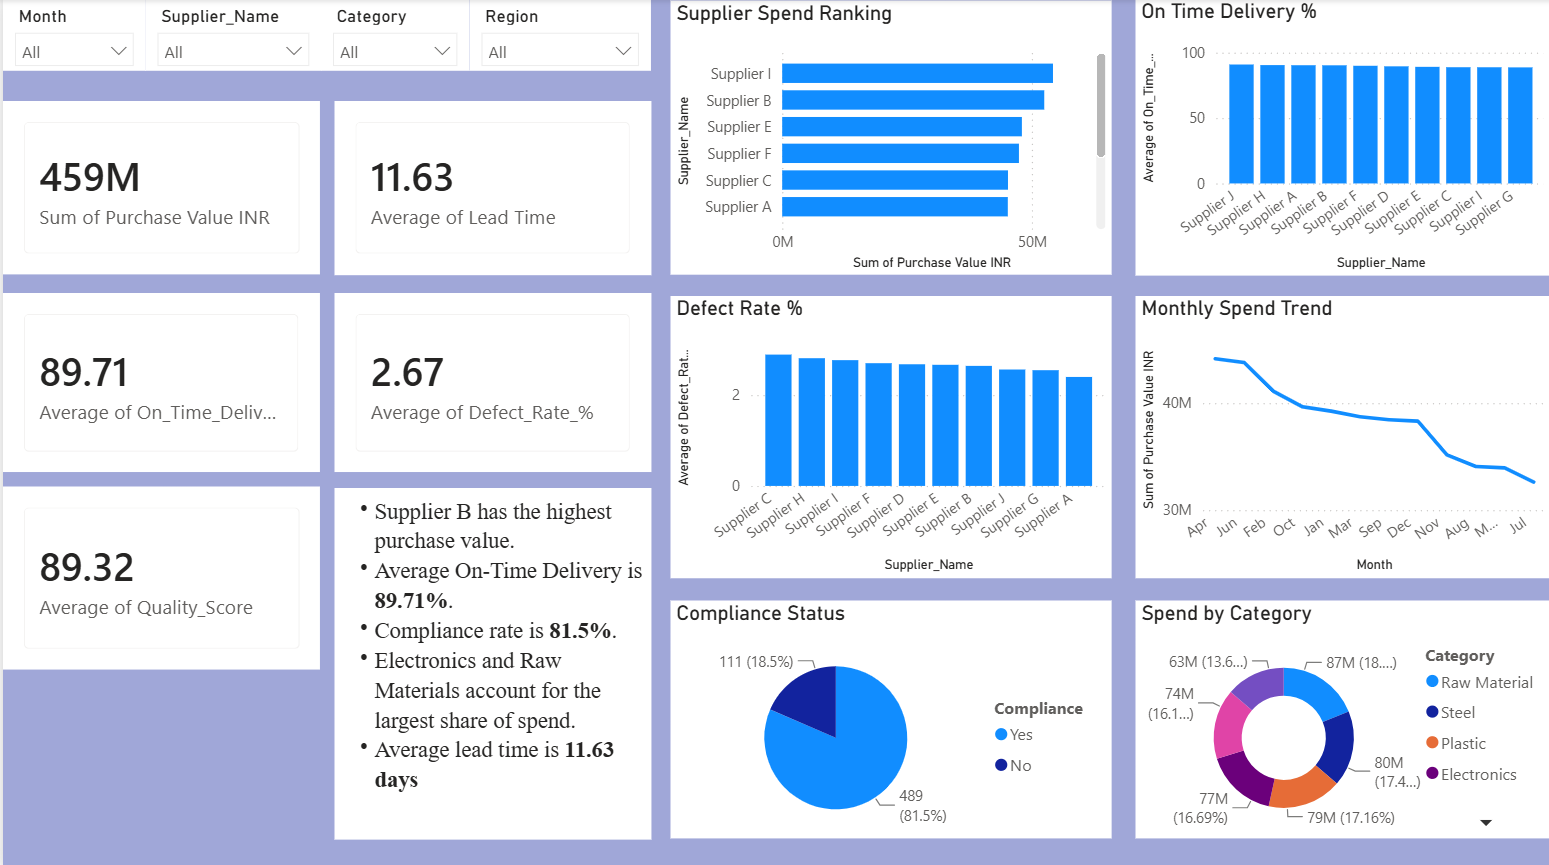

The dashboard page shown, as its layout file describes it:
{"tool":"powerbi","page":{"name":"Supplier performance","canvas":[1280,720],"ordinal":0},"visuals":[{"type":"cardVisual","fields":{"Data":["Sum(Supplier_Performance.Purchase Value INR)"]},"box":[0,84.7,262.1,143.3],"z":0},{"type":"cardVisual","fields":{"Data":["Avg(Supplier_Performance.Lead Time)"]},"box":[273.9,84.7,261.7,143.7],"z":1000},{"type":"cardVisual","fields":{"Data":["Avg(Supplier_Performance.On_Time_Delivery_%)"]},"box":[0,243.6,261.7,148.3],"z":2000},{"type":"cardVisual","fields":{"Data":["Avg(Supplier_Performance.Defect_Rate_%)"]},"box":[273.9,243.6,261.7,148.3],"z":3000},{"type":"cardVisual","fields":{"Data":["Avg(Supplier_Performance.Quality_Score)"]},"box":[0,402.5,262.1,151.1],"z":4000},{"type":"clusteredBarChart","title":"Supplier Spend Ranking","fields":{"Category":["Supplier_Performance.Supplier_Name"],"Y":["Sum(Supplier_Performance.Purchase Value INR)"]},"box":[552.2,1.5,364.6,227],"z":5000},{"type":"clusteredColumnChart","title":"On Time Delivery % ","fields":{"Category":["Supplier_Performance.Supplier_Name"],"Y":["Avg(Supplier_Performance.On_Time_Delivery_%)"]},"box":[936.5,0,343.5,228.5],"z":6000},{"type":"clusteredColumnChart","title":"Defect Rate %","fields":{"Category":["Supplier_Performance.Supplier_Name"],"Y":["Avg(Supplier_Performance.Defect_Rate_%)"]},"box":[552.2,245.1,364.6,233],"z":7000},{"type":"pieChart","title":"Compliance Status","fields":{"Category":["Supplier_Performance.Compliance"],"Y":["CountNonNull(Supplier_Performance.Supplier_ID)"]},"box":[552.2,497.8,364.6,196.7],"z":8000},{"type":"donutChart","title":"Spend by Category","fields":{"Category":["Supplier_Performance.Category"],"Y":["Sum(Supplier_Performance.Purchase Value INR)"]},"box":[936.5,497.8,343.5,196.7],"z":9000},{"type":"lineChart","title":"Monthly Spend Trend","fields":{"Category":["Supplier_Performance.Month"],"Y":["Sum(Supplier_Performance.Purchase Value INR)"]},"box":[936.5,245.1,343.5,233],"z":10000},{"type":"slicer","fields":{"Values":["Supplier_Performance.Month"]},"box":[0,0,118,59],"z":10001},{"type":"slicer","fields":{"Values":["Supplier_Performance.Supplier_Name"]},"box":[118,0,145.2,59],"z":10002},{"type":"slicer","fields":{"Values":["Supplier_Performance.Category"]},"box":[263.3,0,122.6,59],"z":10003},{"type":"slicer","fields":{"Values":["Supplier_Performance.Region"]},"box":[385.8,0,149.8,59],"z":10004},{"type":"textbox","box":[273.9,404,261.7,290.5],"z":10005}]}

Visuals, with their boxes in screenshot pixels (x1, y1, x2, y2), scaled from the page's 1280x720 canvas onto the 1549x865 screenshot:
cardVisual - Sum(Supplier_Performance.Purchase Value INR): rect(0, 102, 317, 274)
cardVisual - Avg(Supplier_Performance.Lead Time): rect(331, 102, 648, 274)
cardVisual - Avg(Supplier_Performance.On_Time_Delivery_%): rect(0, 293, 317, 471)
cardVisual - Avg(Supplier_Performance.Defect_Rate_%): rect(331, 293, 648, 471)
cardVisual - Avg(Supplier_Performance.Quality_Score): rect(0, 484, 317, 665)
"Supplier Spend Ranking" clusteredBarChart: rect(668, 2, 1109, 275)
"On Time Delivery % " clusteredColumnChart: rect(1133, 0, 1548, 275)
"Defect Rate %" clusteredColumnChart: rect(668, 294, 1109, 574)
"Compliance Status" pieChart: rect(668, 598, 1109, 834)
"Spend by Category" donutChart: rect(1133, 598, 1548, 834)
"Monthly Spend Trend" lineChart: rect(1133, 294, 1548, 574)
slicer - Supplier_Performance.Month: rect(0, 0, 143, 71)
slicer - Supplier_Performance.Supplier_Name: rect(143, 0, 319, 71)
slicer - Supplier_Performance.Category: rect(319, 0, 467, 71)
slicer - Supplier_Performance.Region: rect(467, 0, 648, 71)
textbox: rect(331, 485, 648, 834)
